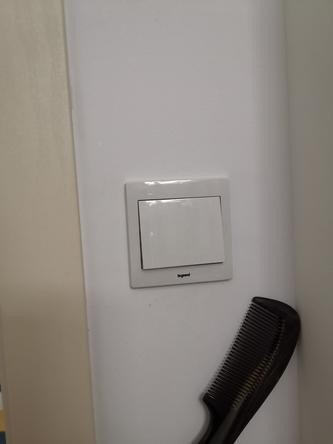switch: (134, 193, 231, 273)
